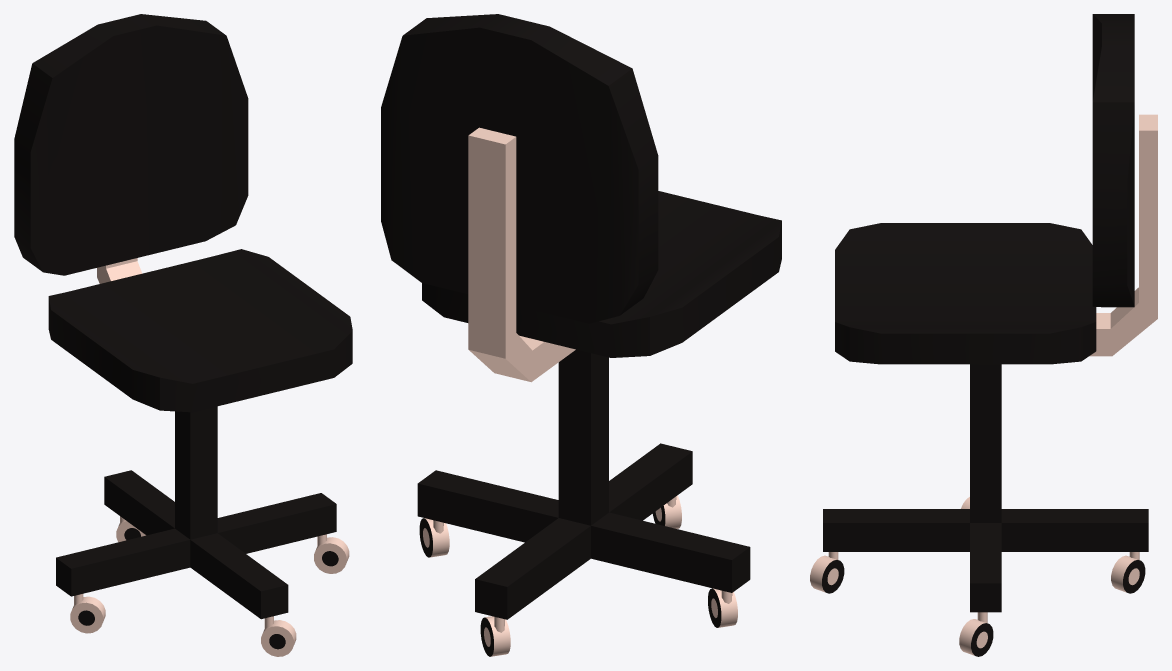
File: Prop_Chair_001.FBX
3 renders of one model, left to right at view 1: azimuth 30°, elevation 25°; view 2: azimuth 150°, elevation 25°; view 3: azimuth 270°, elevation 25°, orthographic. The views are drawn at different scales.
Parts seen in each view (by area): view 1: Prop_Chair_001; view 2: Prop_Chair_001; view 3: Prop_Chair_001.
Boxes of the visible parts, x1=… form: Prop_Chair_001: x1=14, y1=14, x2=352, y2=656; Prop_Chair_001: x1=381, y1=14, x2=781, y2=656; Prop_Chair_001: x1=810, y1=14, x2=1157, y2=656.
Bounding box in the file's own units: 0.5124 × 0.9295 × 0.5324.
